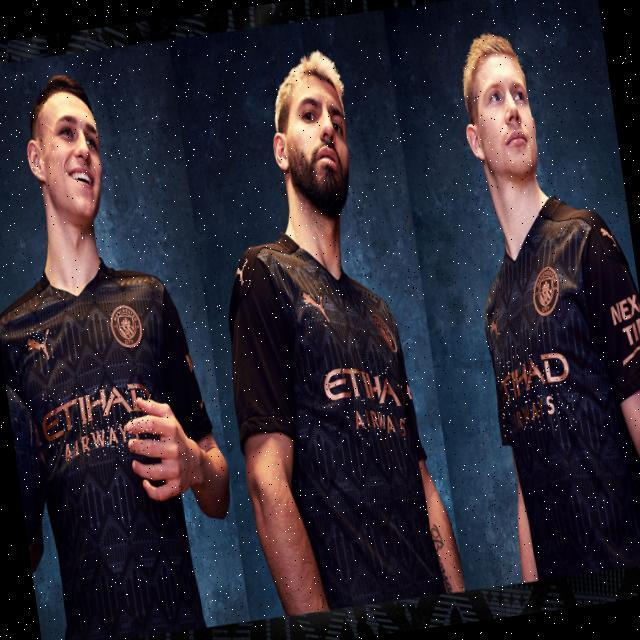Etihad Airways: (38, 379, 161, 464), (321, 358, 413, 451), (494, 348, 578, 437)
Puma: (301, 288, 331, 329), (24, 327, 55, 364), (600, 225, 620, 255), (488, 308, 504, 340), (234, 259, 252, 287)
